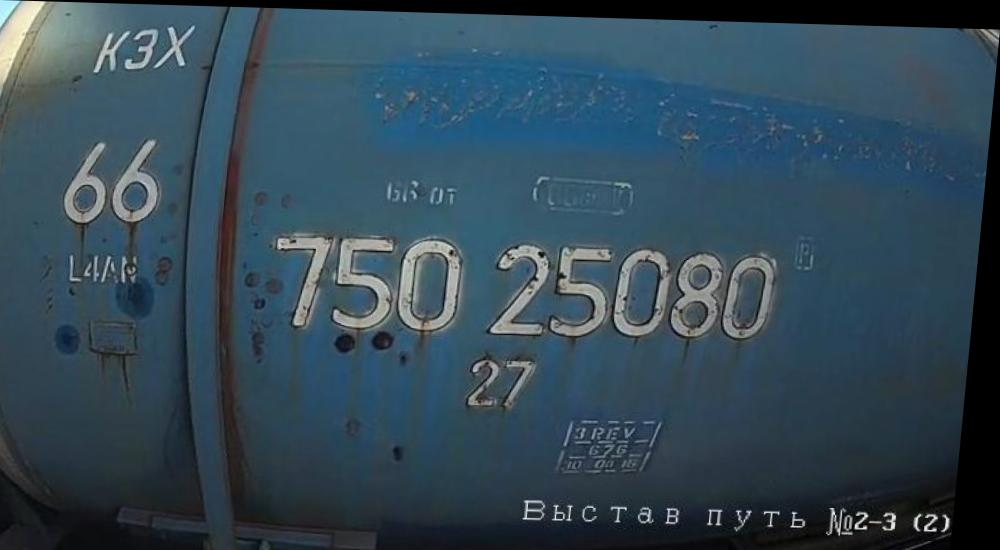Wagon-number: (271, 225, 786, 345)
